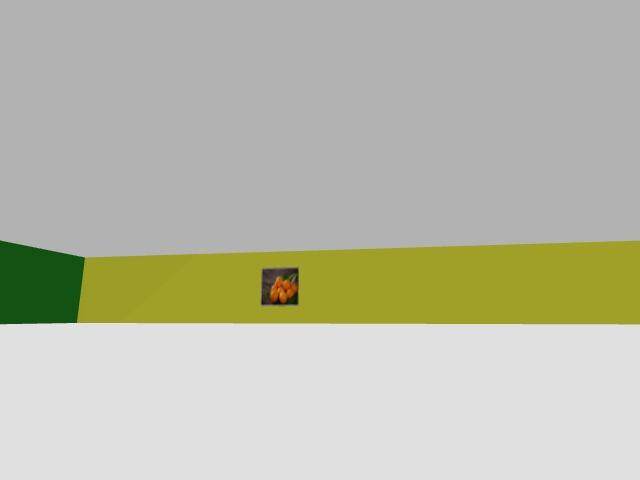orange: (270, 290, 278, 302), (282, 280, 290, 289), (279, 293, 286, 303), (275, 276, 282, 285), (286, 288, 293, 297), (276, 286, 284, 293), (291, 283, 297, 292), (270, 283, 277, 290)
